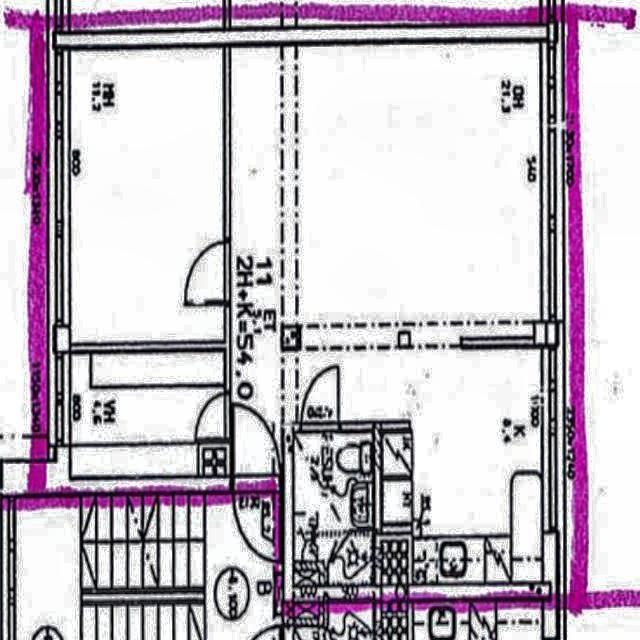room: (69, 48, 224, 344), (71, 353, 231, 476), (294, 434, 372, 584)
